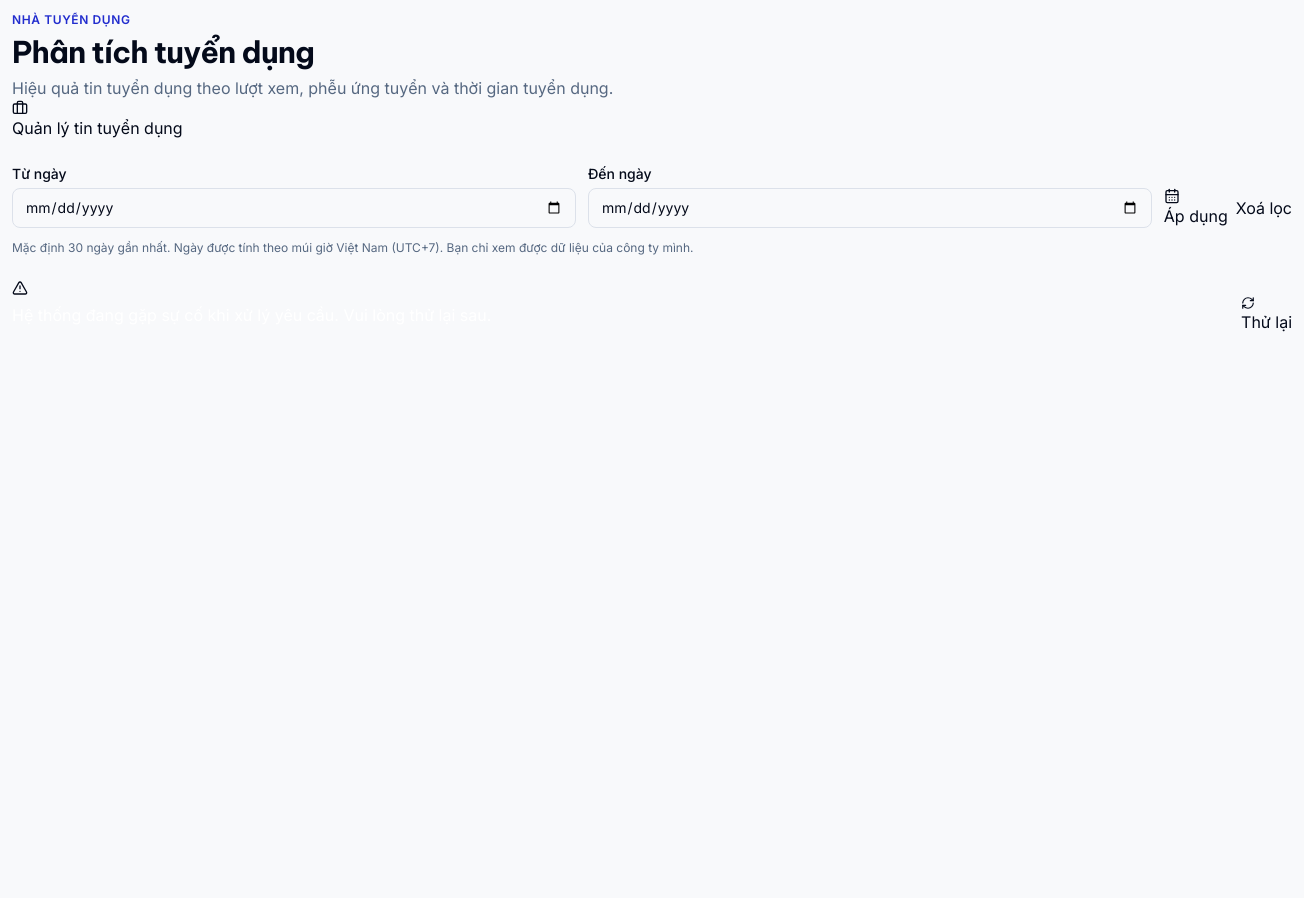
Test: RecruiterAnalyticsPage › shows an error banner and retries on failure
Click the button "Thử lại".
click(1267, 315)  # box [1241,296,1292,334]
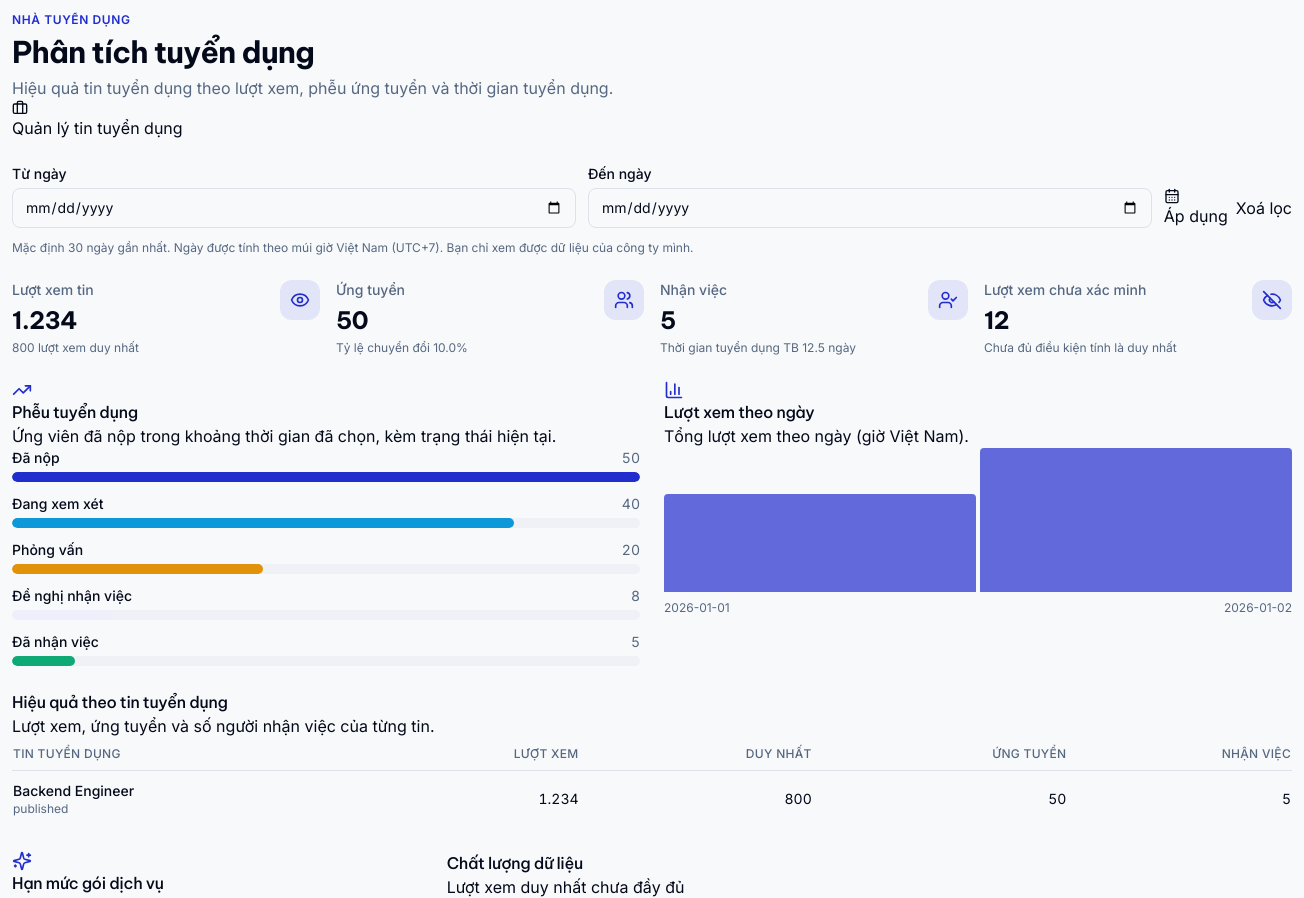
Expected: the text "Lượt xem tin" is shown, [12,281,94,298]
